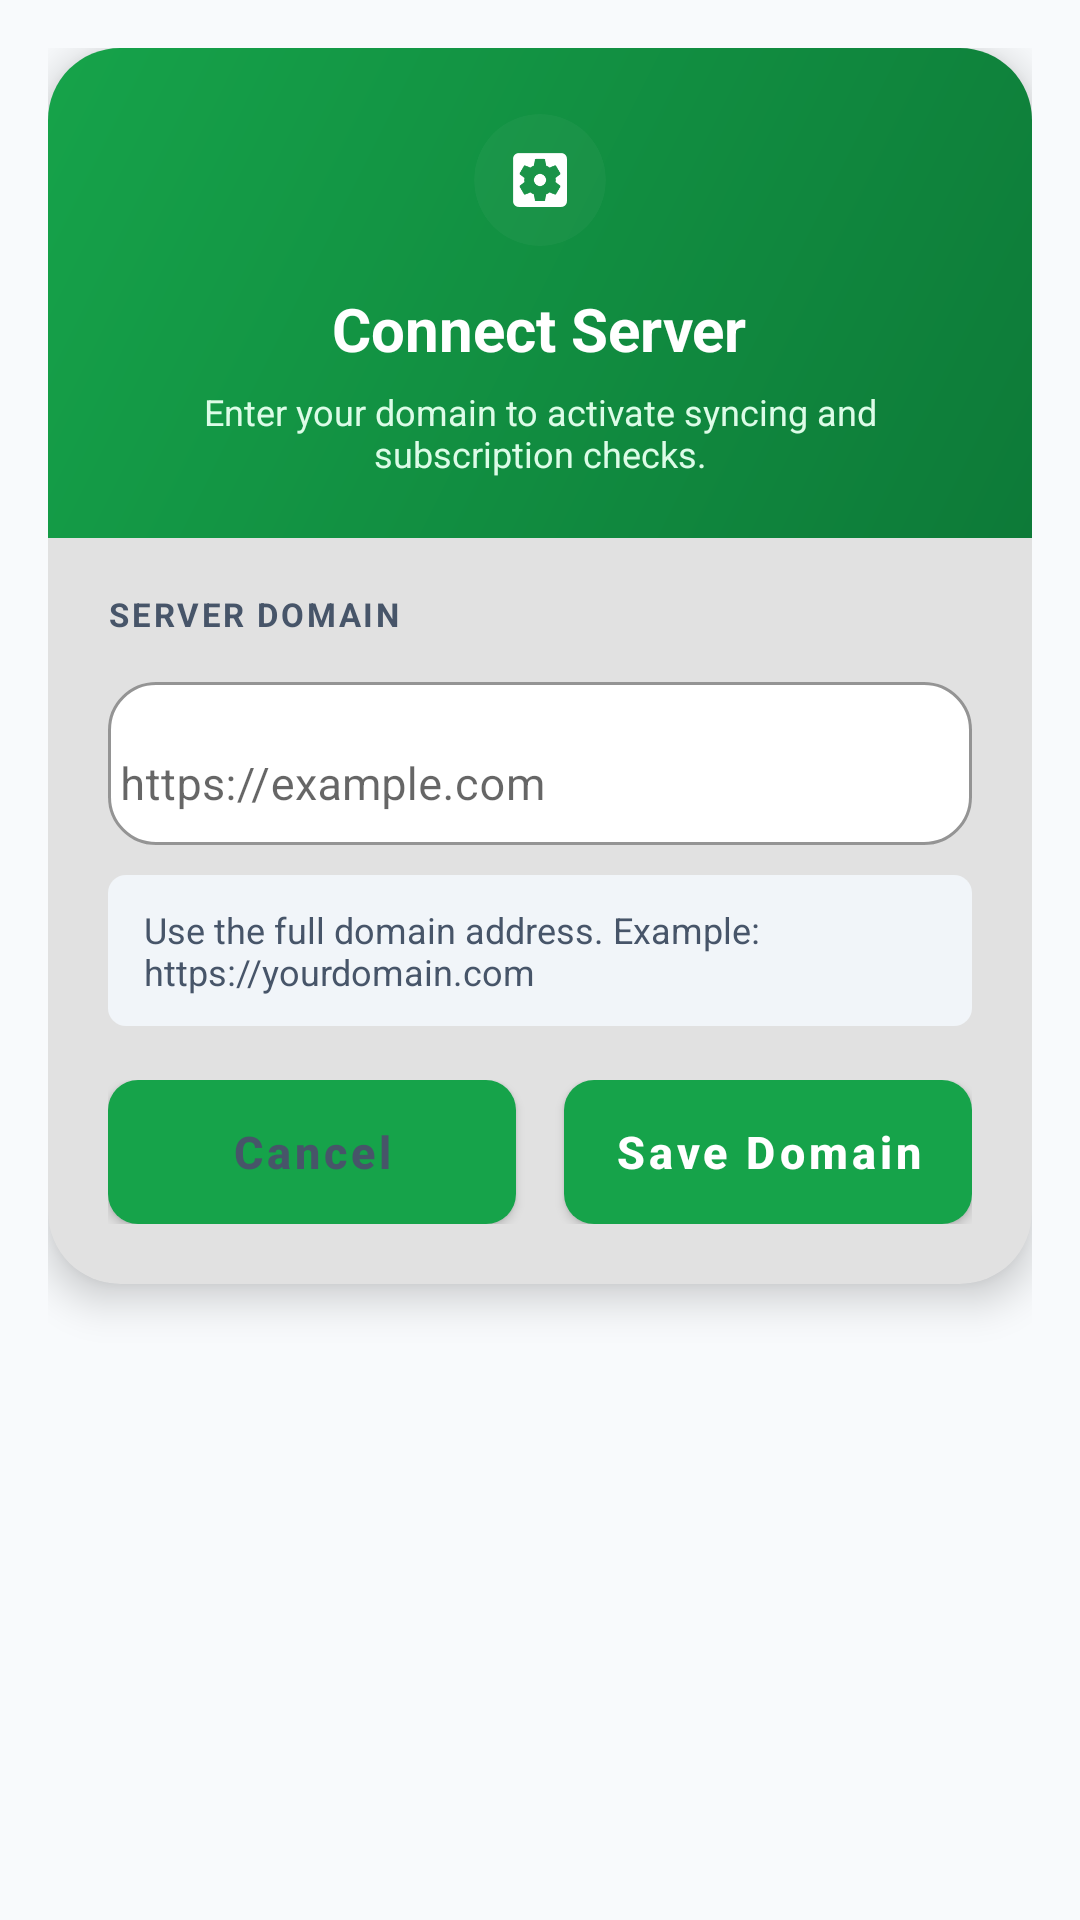

Screen size 1080px x 1920px. Icon name, then its box in pixels as {"left": x1, "top": y1, "right": x2, "bottom": y2}:
settings applications: {"left": 513, "top": 153, "right": 567, "bottom": 207}
